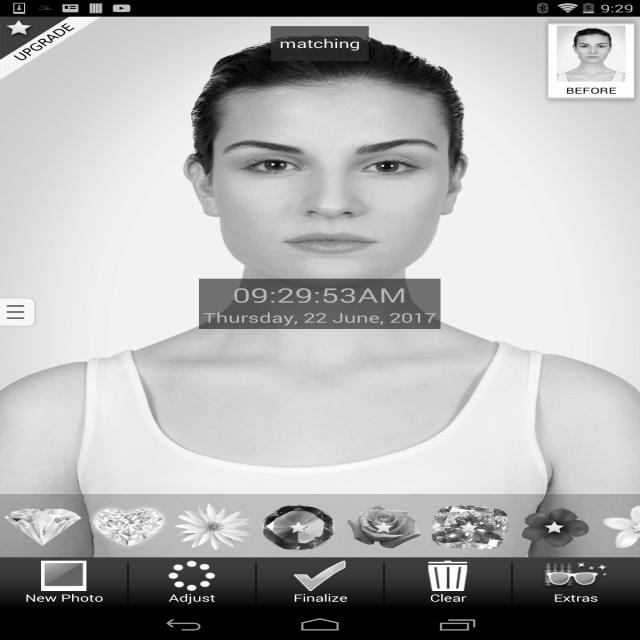Button: (266, 23, 372, 64)
ImageButton: (0, 500, 85, 554), (85, 501, 171, 554), (341, 501, 427, 554), (171, 501, 256, 554), (256, 501, 341, 554), (427, 501, 512, 554), (512, 501, 597, 554), (597, 501, 640, 554)
ImageView: (0, 16, 101, 80), (556, 26, 626, 81), (0, 296, 38, 327)
TextView: (203, 282, 436, 308), (203, 308, 436, 326), (0, 591, 128, 605), (128, 591, 256, 605), (256, 591, 384, 605), (384, 591, 512, 605), (512, 591, 640, 605), (566, 85, 616, 96)
